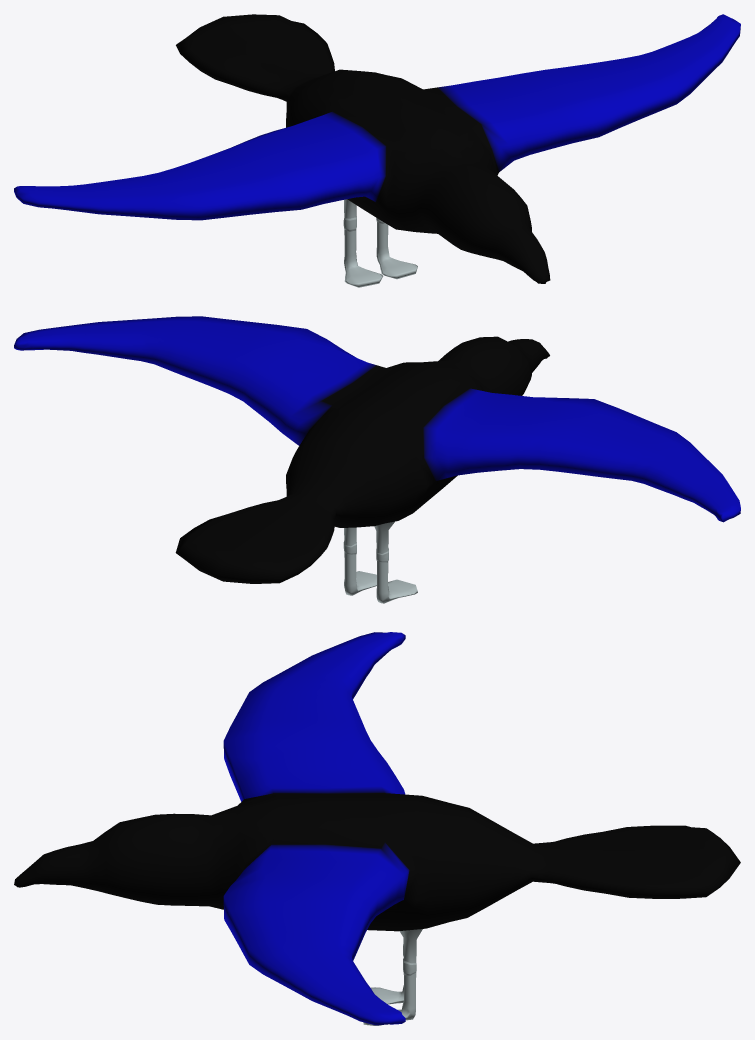
Rendered from SeagullVColor.fbx.
3 renders of one model, top to bottom at view 1: azimuth 30°, elevation 25°; view 2: azimuth 150°, elevation 25°; view 3: azimuth 270°, elevation 25°, orthographic. The views are drawn at different scales.
Visible parts, largest first — view 1: pCylinder13, pCylinder14; view 2: pCylinder13, pCylinder14; view 3: pCylinder13, pCylinder14.
Boxes of the visible parts, x1=… form: pCylinder13: x1=14, y1=14, x2=740, y2=283; pCylinder14: x1=343, y1=199, x2=417, y2=287; pCylinder13: x1=14, y1=316, x2=740, y2=583; pCylinder14: x1=343, y1=521, x2=417, y2=603; pCylinder13: x1=14, y1=632, x2=740, y2=1025; pCylinder14: x1=363, y1=929, x2=422, y2=1025.
Bounding box in the file's own units: 827 × 208 × 655.
